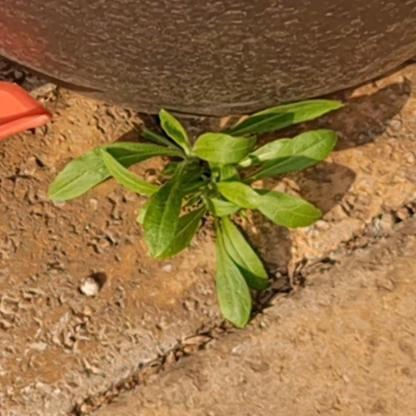Weeds: (51, 96, 343, 330)
